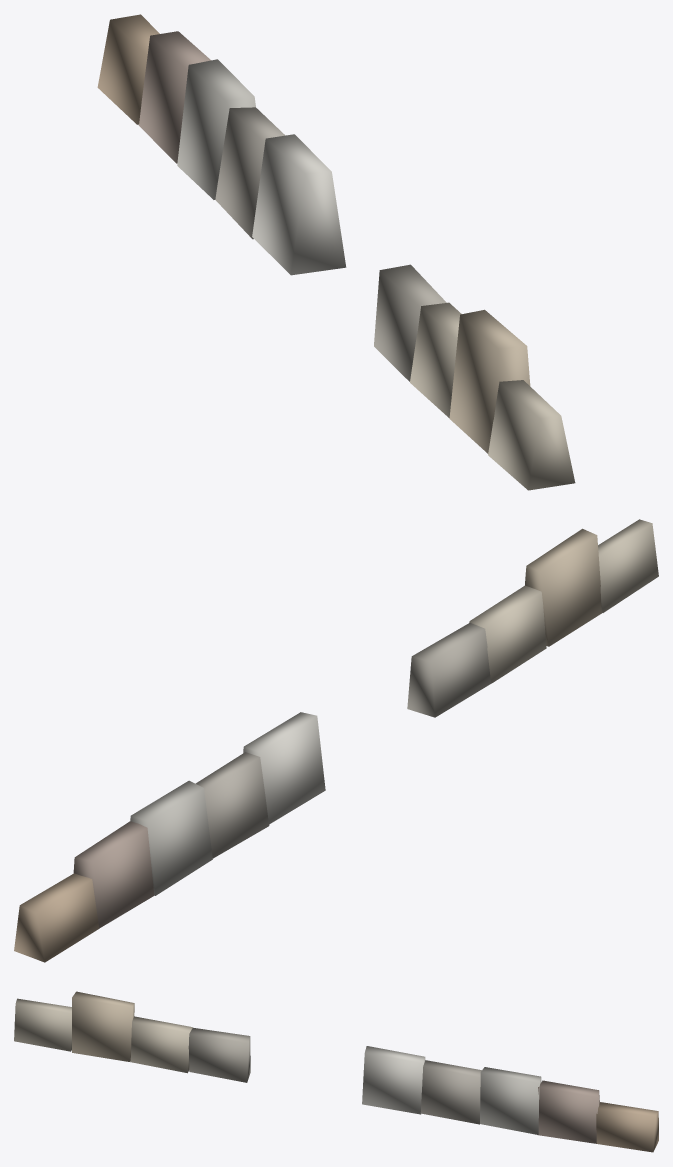
File: farm_-49_-37_far.glb
The picture shows the model from 3 angles, top to bottom: view 1: azimuth 30°, elevation 25°; view 2: azimuth 150°, elevation 25°; view 3: azimuth 270°, elevation 25°; orthographic projection. The views are drawn at different scales.
Visible parts, largest first — view 1: geometry_0; view 2: geometry_0; view 3: geometry_0.
Part boxes in pixels (<box>): geometry_0: <box>97,14,575,490</box>; geometry_0: <box>14,519,658,962</box>; geometry_0: <box>14,991,658,1152</box>.
Bounding box in the file's own units: 3.69 × 2.86 × 15.96.
